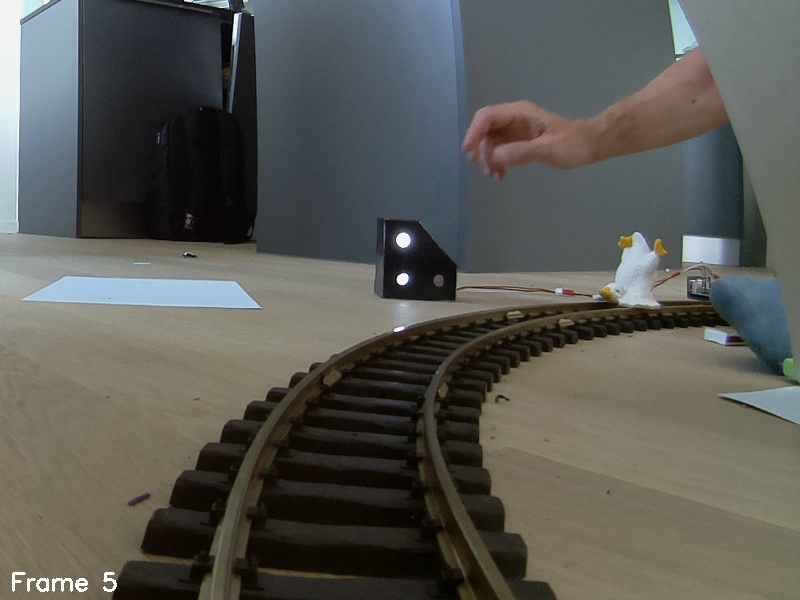Ente: (593, 227, 669, 320)
Fahrt: (370, 216, 458, 303)
